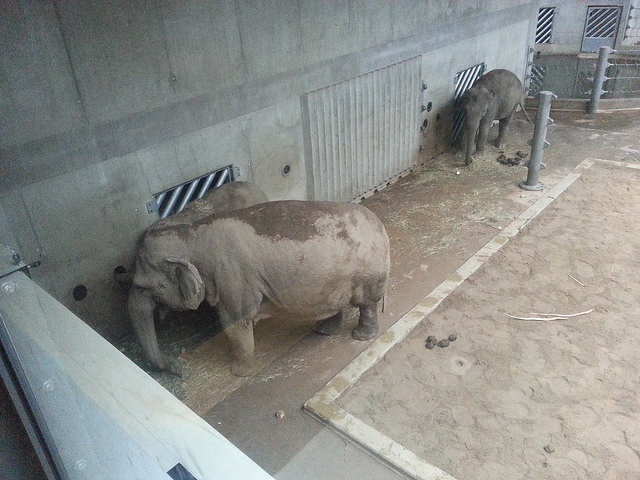elephant: (129, 202, 393, 381), (457, 67, 526, 167)
